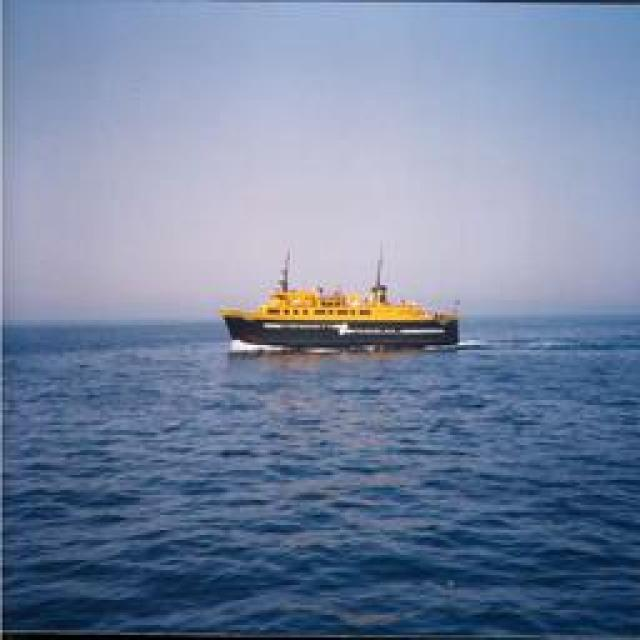ship2: (218, 240, 461, 351)
